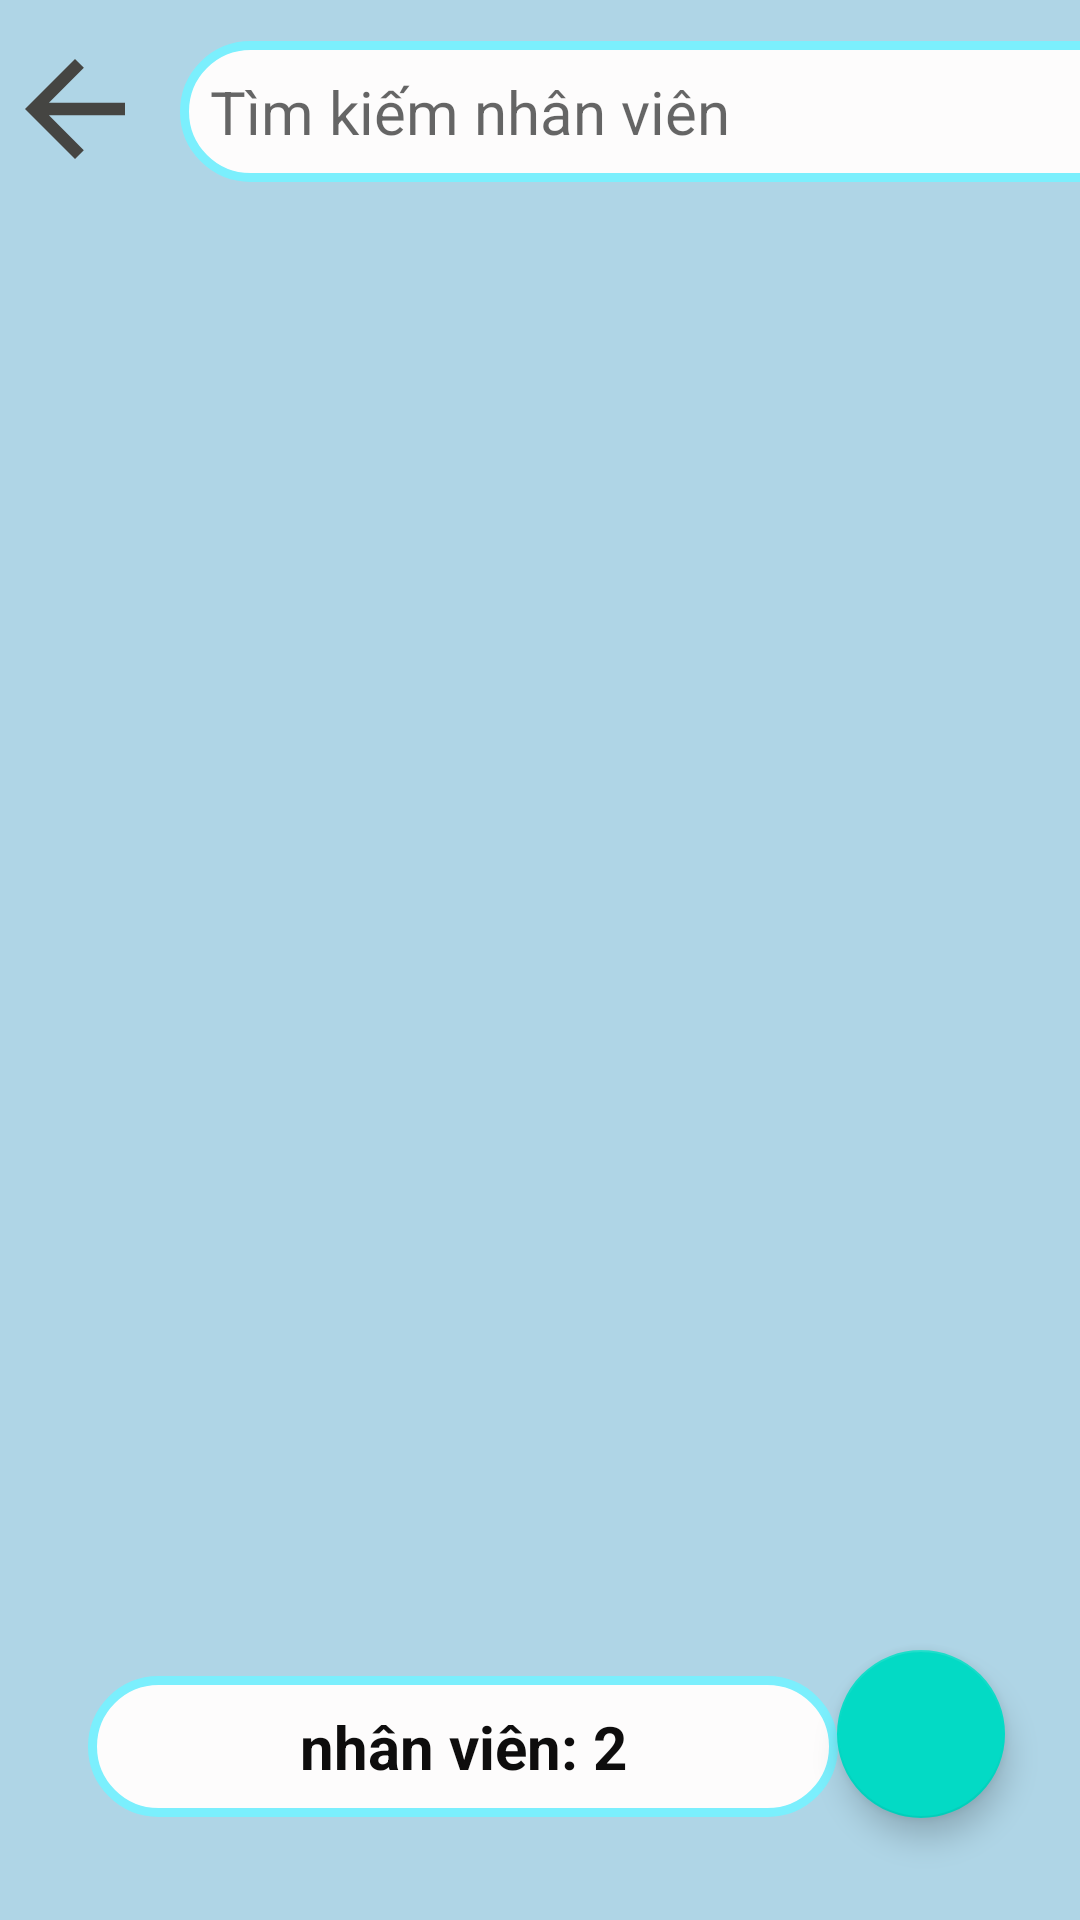

Screen size 1080px x 1920px. Icon name, then its box in pixels as BBox(x1, y1, x2, y2):
arrow back: BBox(25, 59, 125, 159)
